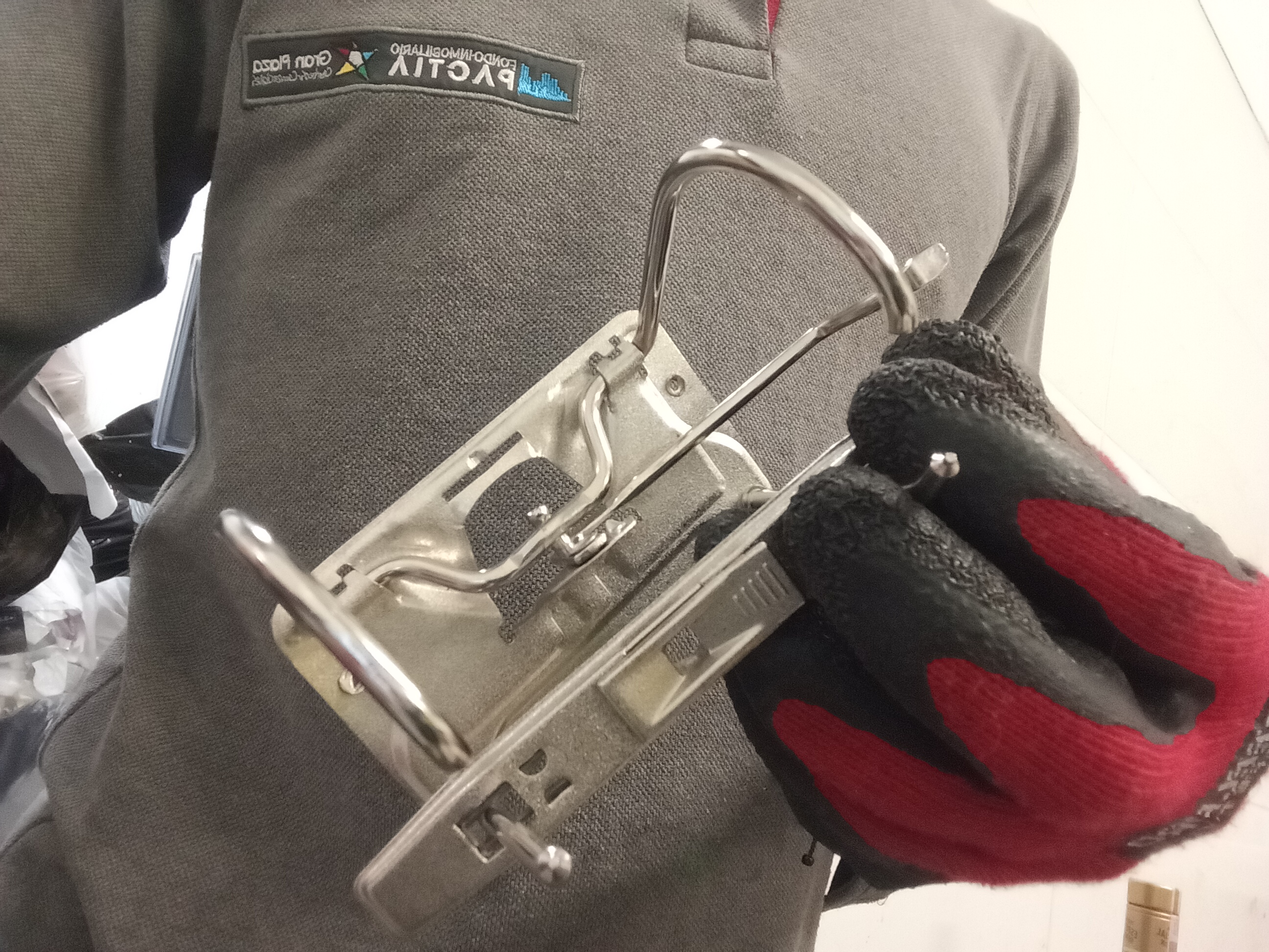Metal: (204, 135, 962, 937)
